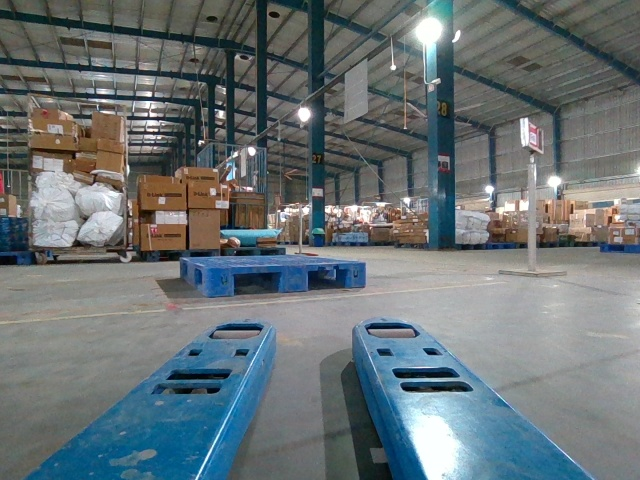pallet: (209, 262, 366, 297)
